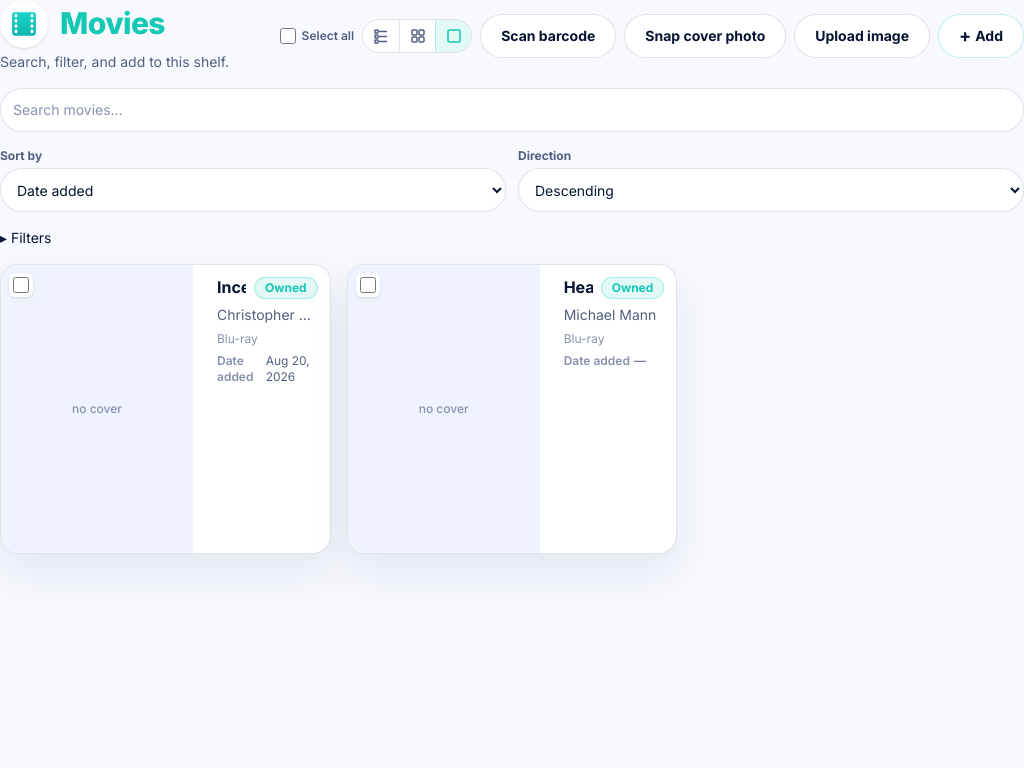
Test case: CollectionList — bulk select + update › confirming the modal issues PATCH movies/bulk with only the set fields, then refetches the list
Expected: the heading "Inception" is shown, [217, 277, 246, 297]
Click the checkbox named "Select item" in the row of "Inception". click: coordinates (21, 285)
box: [13, 277, 29, 293]
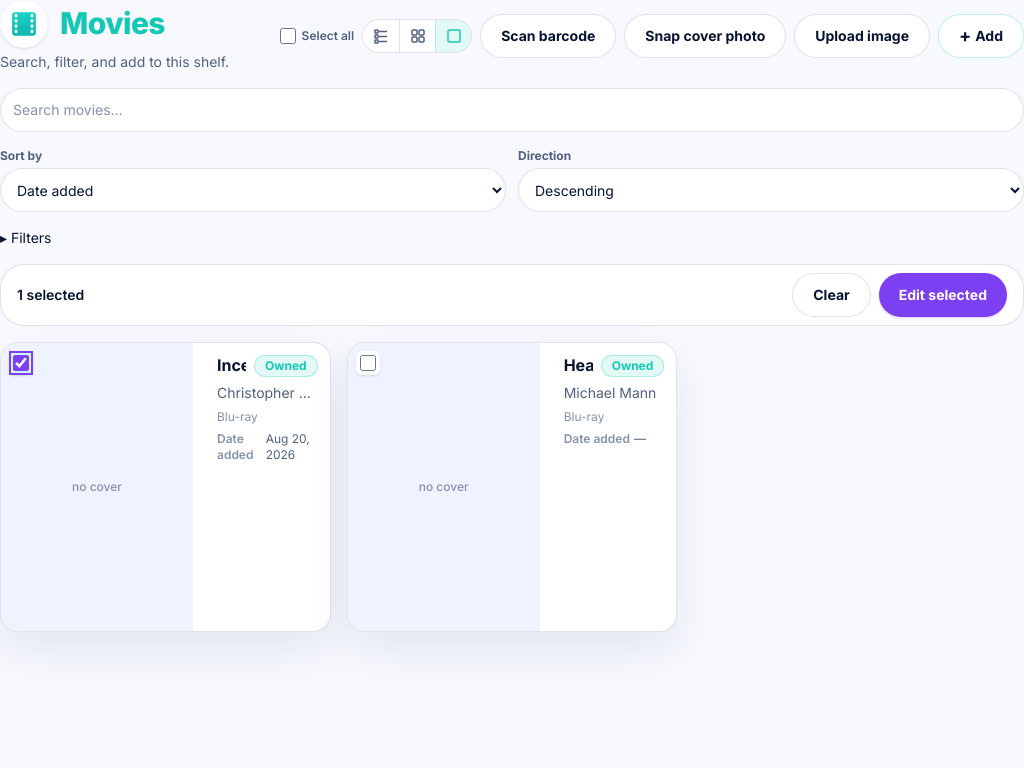
Click the button "Edit selected". click: coordinates (943, 295)
box: [879, 273, 1007, 317]
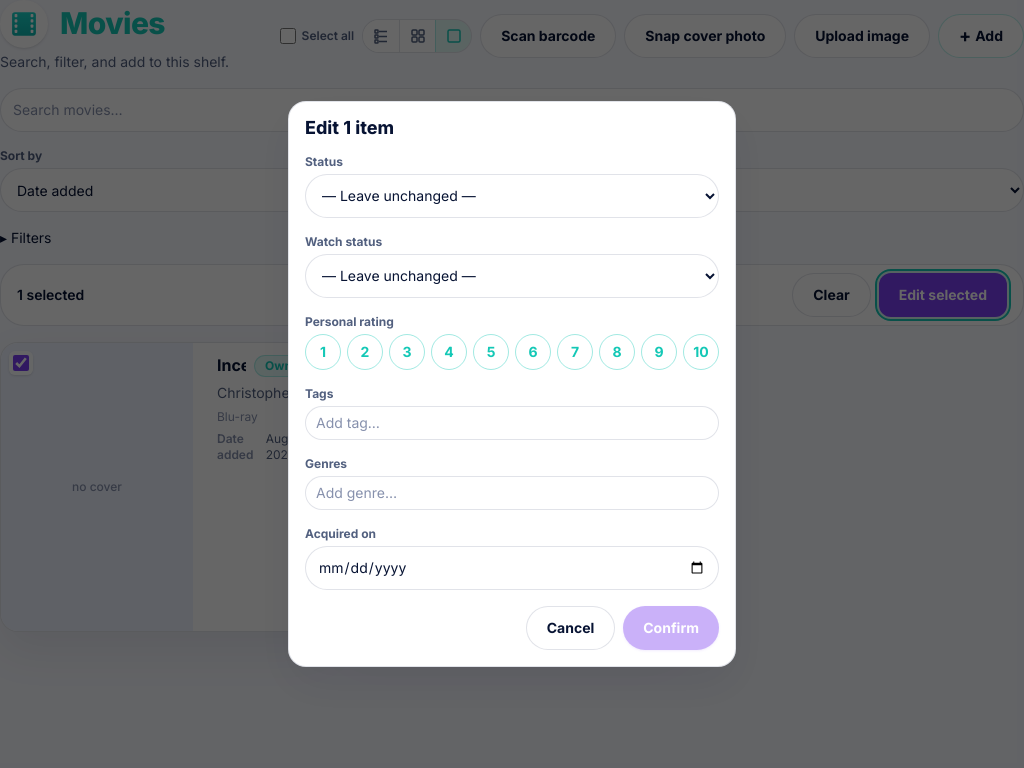
Click the radio button named "7 of 10". click: coordinates (575, 352)
box: [557, 334, 593, 370]
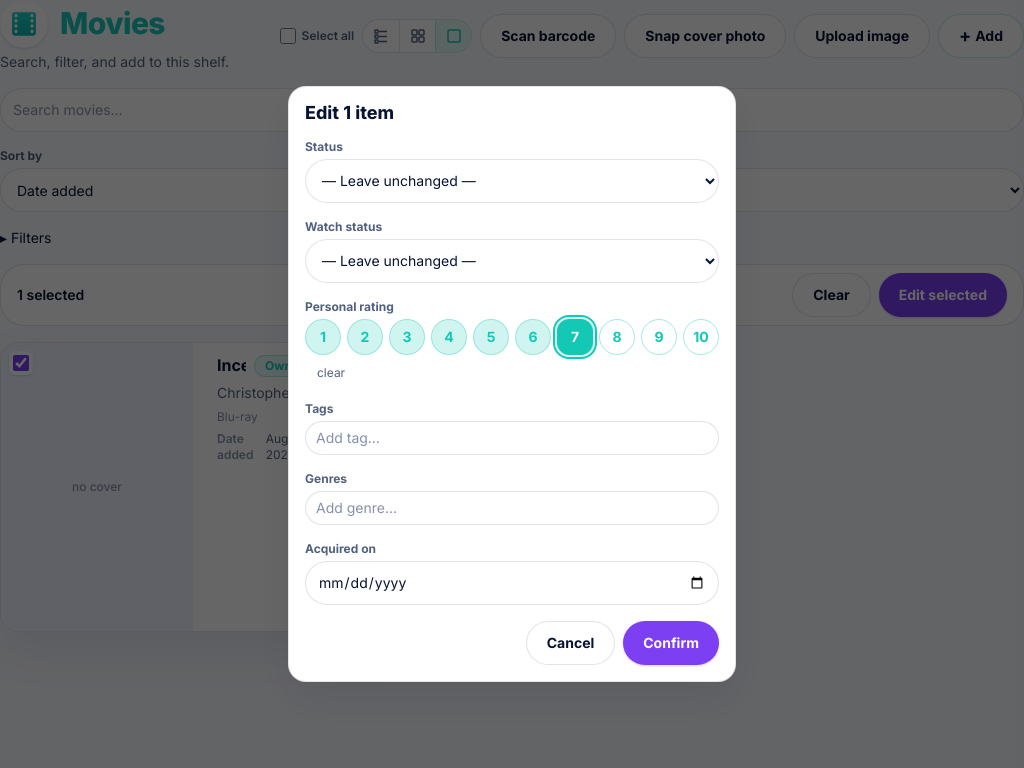
Click the button "Confirm". click: coordinates (671, 643)
box: [623, 621, 719, 665]
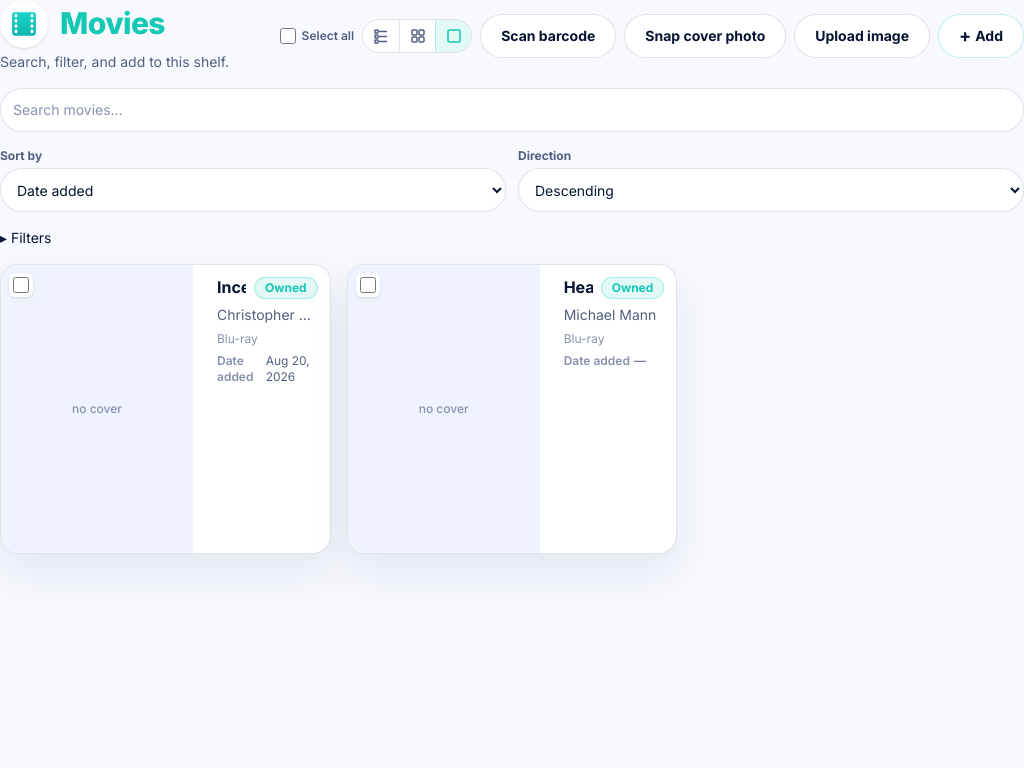
Expected: the button "Confirm" is gone
Expected: the text "selected" is gone
